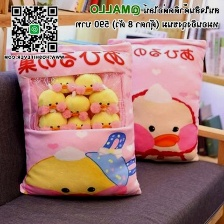snack: (3, 36, 149, 204), (100, 33, 213, 169)
